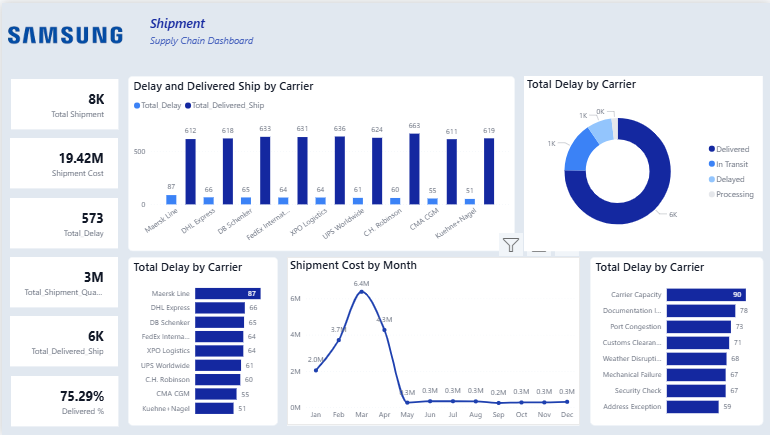

What the dashboard file says about the page in this screenshot:
{"tool":"powerbi","page":{"name":"Shipment","canvas":[1280,720],"ordinal":4},"visuals":[{"type":"image","box":[0,0,210,107.1],"z":0},{"type":"cardVisual","fields":{"Data":["MeasuresTable.Shipment_Cost"]},"box":[8.3,220.1,190,94],"z":1000},{"type":"cardVisual","fields":{"Data":["MeasuresTable.Total_Delay"]},"box":[8.3,319.2,190,94],"z":2000},{"type":"cardVisual","fields":{"Data":["MeasuresTable.Total_Shipment_Quantity"]},"box":[8.3,418.3,190,94],"z":3000},{"type":"cardVisual","fields":{"Data":["MeasuresTable.Total_Delivered_Ship"]},"box":[8.3,517.4,190,94],"z":4000},{"type":"cardVisual","fields":{"Data":["MeasuresTable.Delivered %"]},"box":[10.1,616.5,189.8,94.1],"z":5000},{"type":"cardVisual","fields":{"Data":["MeasuresTable.Total_Shipment"]},"box":[10.1,120.9,189.8,94.1],"z":6000},{"type":"clusteredBarChart","title":"Total Delay by Carrier","fields":{"Y":["MeasuresTable.Total_Delay"],"Category":["fact_shipment.carrier"]},"box":[210,423.3,250.3,280.5],"z":7000},{"type":"clusteredColumnChart","title":"Delay and Delivered Ship by Carrier","fields":{"Y":["MeasuresTable.Total_Delay","MeasuresTable.Total_Delivered_Ship"],"Category":["fact_shipment.carrier"]},"box":[210,120.9,645,292.3],"z":8000},{"type":"lineChart","title":"Shipment Cost by Month","fields":{"Y":["MeasuresTable.Shipment_Cost"],"Category":["dim_date.Month_Short"]},"box":[475.4,423.3,487.1,280.5],"z":9000},{"type":"clusteredBarChart","title":"Total Delay by Carrier","fields":{"Category":["fact_shipment.delay_reason"],"Y":["MeasuresTable.Total_Delay"]},"box":[979.3,423.3,288.9,280.5],"z":10000},{"type":"donutChart","title":"Total Delay by Carrier","fields":{"Category":["fact_shipment.status"],"Y":["MeasuresTable.Total_Shipment"]},"box":[870.1,120.9,398.1,292.3],"z":11000},{"type":"shape","title":"Shipment","box":[247.1,18.6,304.3,88.6],"z":12000}]}

Visuals, with their boxes in screenshot pixels (x1, y1, x2, y2), scaled from the page's 1280x720 canvas onto the 770x435 screenshot:
image: [left=0, top=0, right=126, bottom=65]
cardVisual - MeasuresTable.Shipment_Cost: [left=5, top=133, right=119, bottom=190]
cardVisual - MeasuresTable.Total_Delay: [left=5, top=193, right=119, bottom=250]
cardVisual - MeasuresTable.Total_Shipment_Quantity: [left=5, top=253, right=119, bottom=310]
cardVisual - MeasuresTable.Total_Delivered_Ship: [left=5, top=313, right=119, bottom=369]
cardVisual - MeasuresTable.Delivered %: [left=6, top=372, right=120, bottom=429]
cardVisual - MeasuresTable.Total_Shipment: [left=6, top=73, right=120, bottom=130]
"Total Delay by Carrier" clusteredBarChart: [left=126, top=256, right=277, bottom=425]
"Delay and Delivered Ship by Carrier" clusteredColumnChart: [left=126, top=73, right=514, bottom=250]
"Shipment Cost by Month" lineChart: [left=286, top=256, right=579, bottom=425]
"Total Delay by Carrier" clusteredBarChart: [left=589, top=256, right=763, bottom=425]
"Total Delay by Carrier" donutChart: [left=523, top=73, right=763, bottom=250]
"Shipment" shape: [left=149, top=11, right=332, bottom=65]
